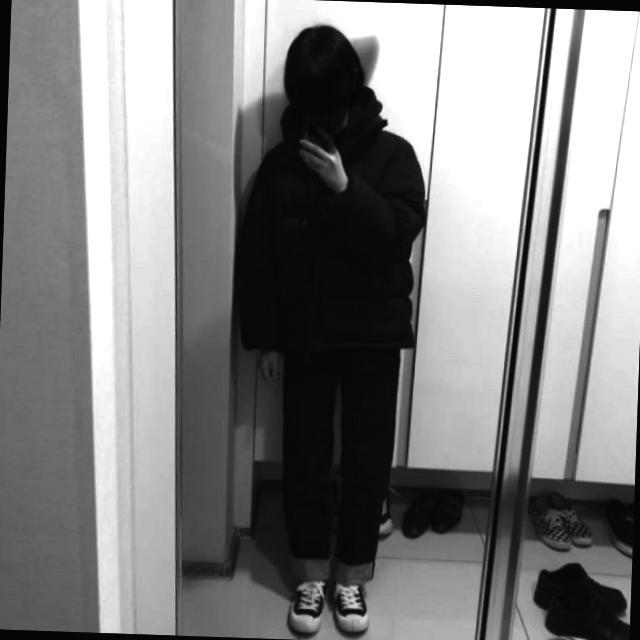denimpants: (276, 338, 401, 578)
padding: (233, 111, 434, 352)
